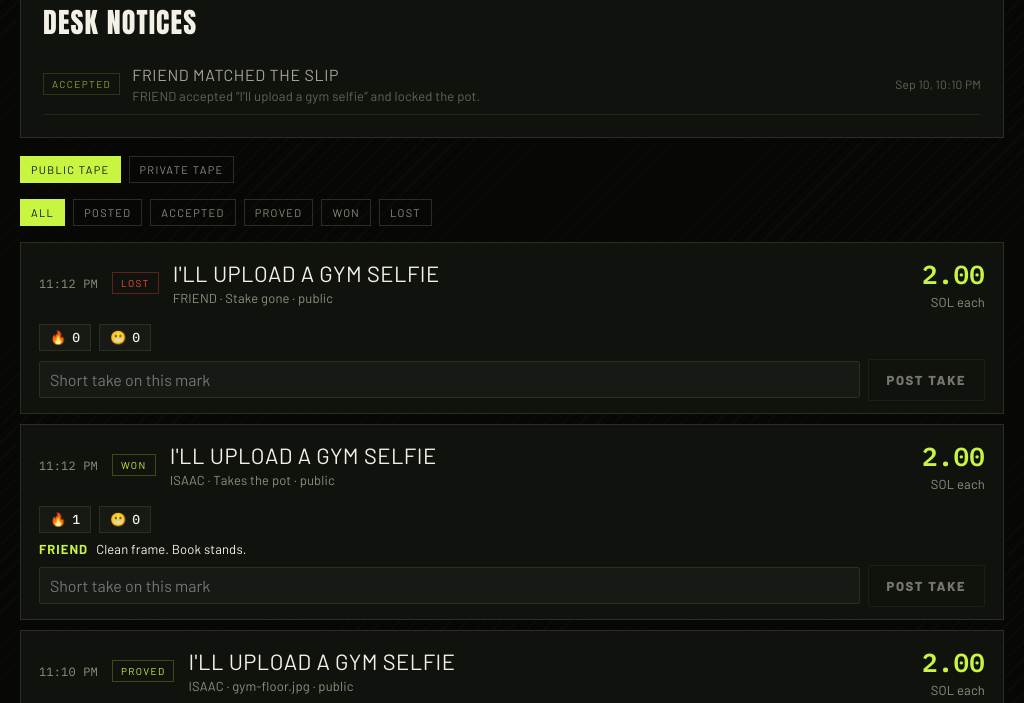
tape reactions and short takes › posts a short take under a seeded mark
(page scrolled)
Expected: the text "Clean frame. Book stands." is shown, [96, 541, 247, 557]
Type "Rail likes this settle." into the field with placeholder "Short take on this mark" below "Stake gone".
click(449, 380); type("Rail likes this settle.")  # box [39, 361, 860, 398]
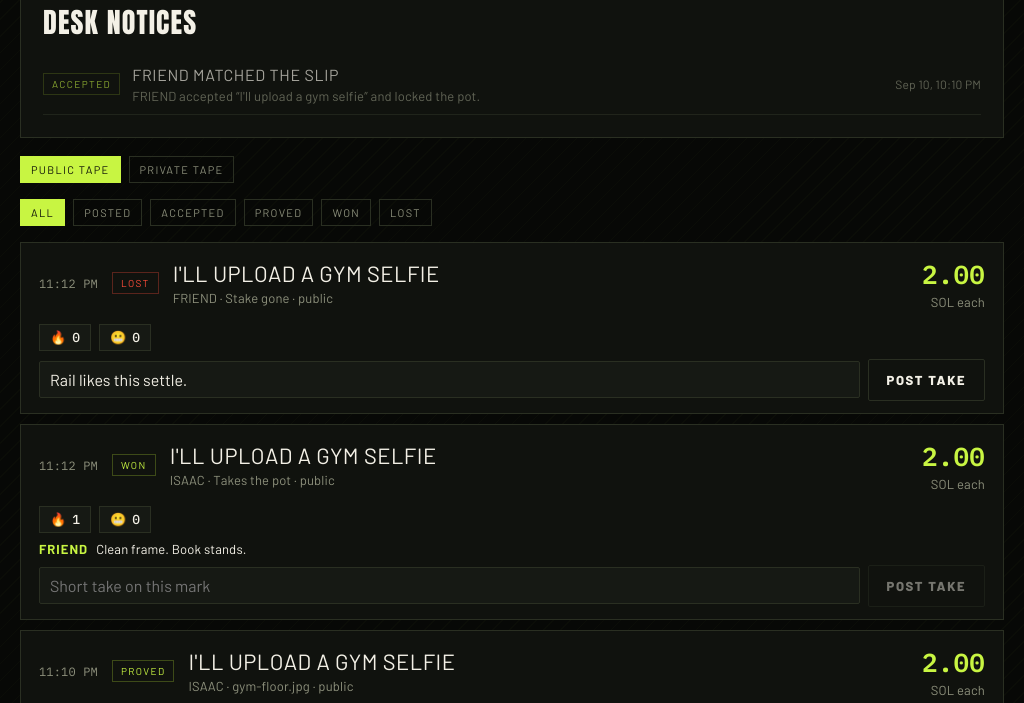
Click the 1st button "Post take".
click(926, 380)  # box [868, 359, 985, 401]
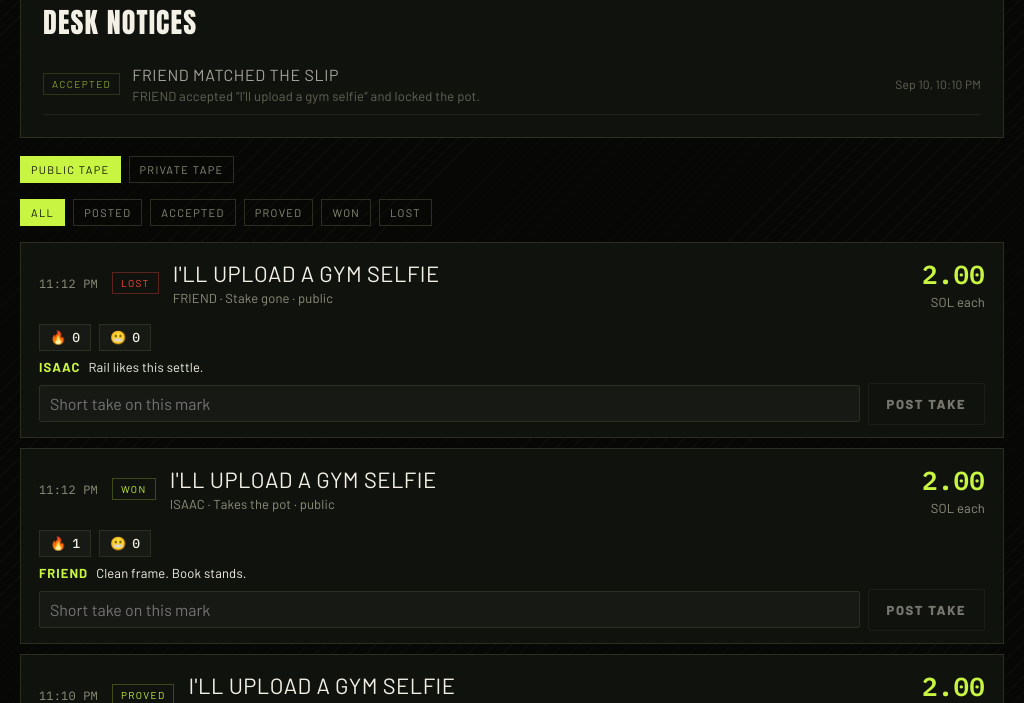
Result: the text "Rail likes this settle." is shown at [88, 359, 204, 375]
